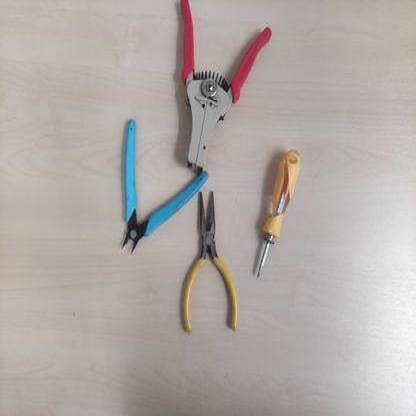Screwdriverrotation: (250, 146, 302, 278)
